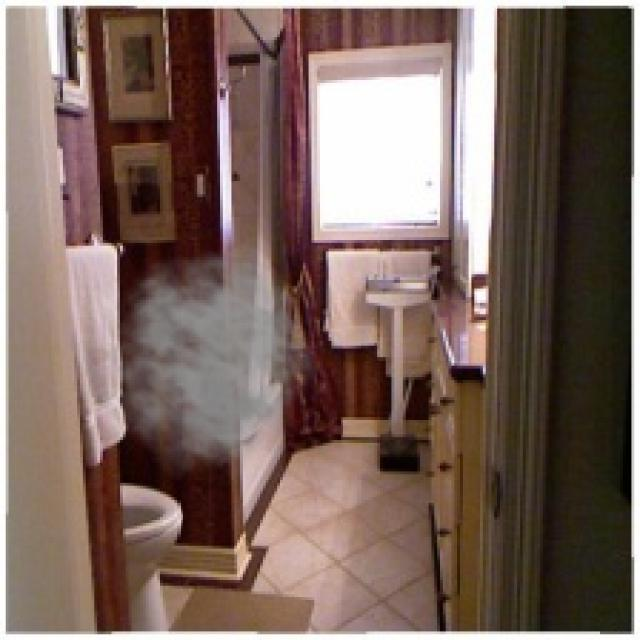Smoke: (92, 243, 314, 486)
